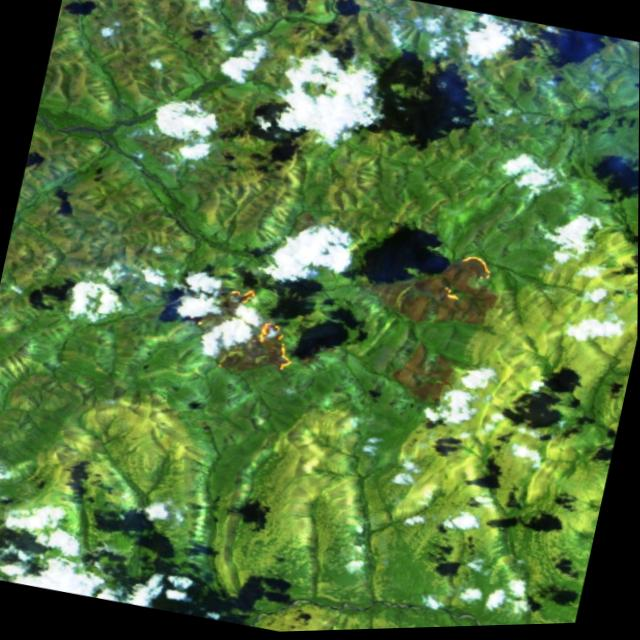fire: (189, 271, 326, 395), (388, 238, 504, 334)
